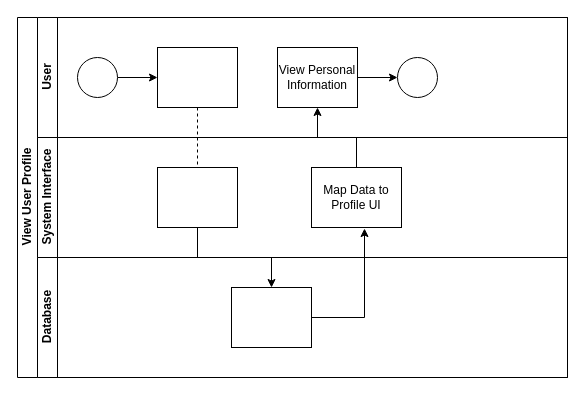
Image size: 585x395. Some labels were removed from this diagram. The centre of each missing label's shape, as x and y in pixels:
Check Authentication Session: (197,197)
Click on Profile: (197,77)
Fetch Row by User_ID: (271,317)
